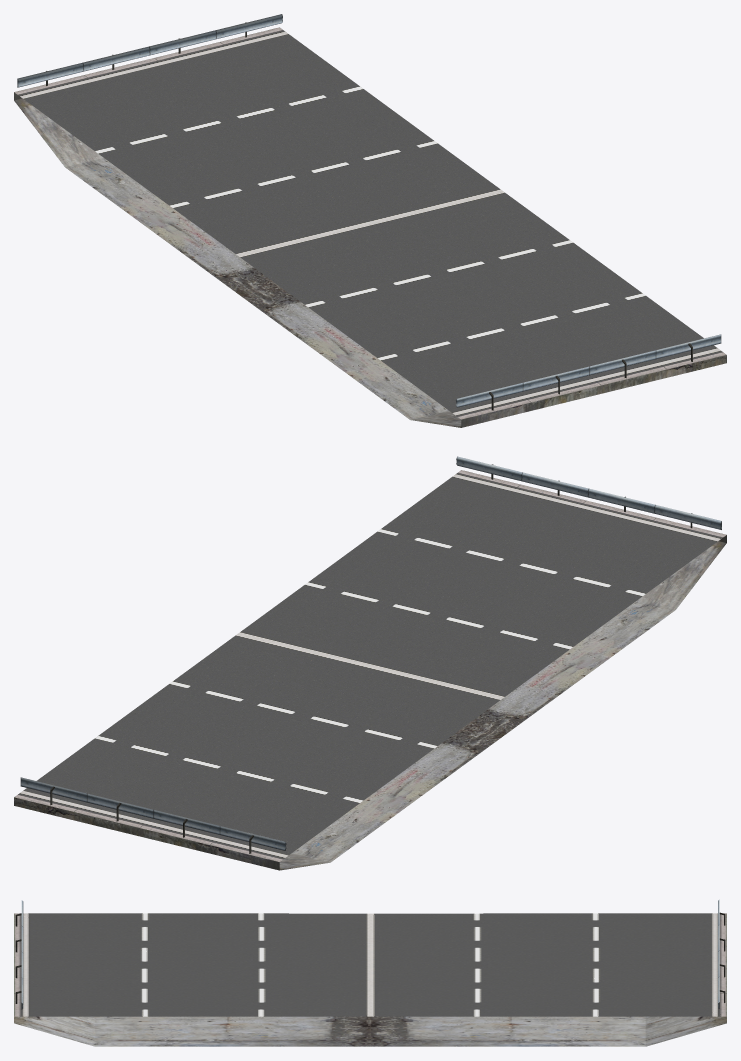
File: 6 line highway without legs_mobile.FBX
3 renders of one model, top to bottom at view 1: azimuth 30°, elevation 25°; view 2: azimuth 150°, elevation 25°; view 3: azimuth 270°, elevation 25°, orthographic. The views are drawn at different scales.
Parts seen in each view (by area): view 1: Object001; view 2: Object001; view 3: Object001.
Part boxes in pixels (<box>): Object001: <box>14,14,726,427</box>; Object001: <box>14,456,726,870</box>; Object001: <box>14,899,726,1046</box>.
Size of the model in its own units: 12.08 by 2.38 by 35.09.
